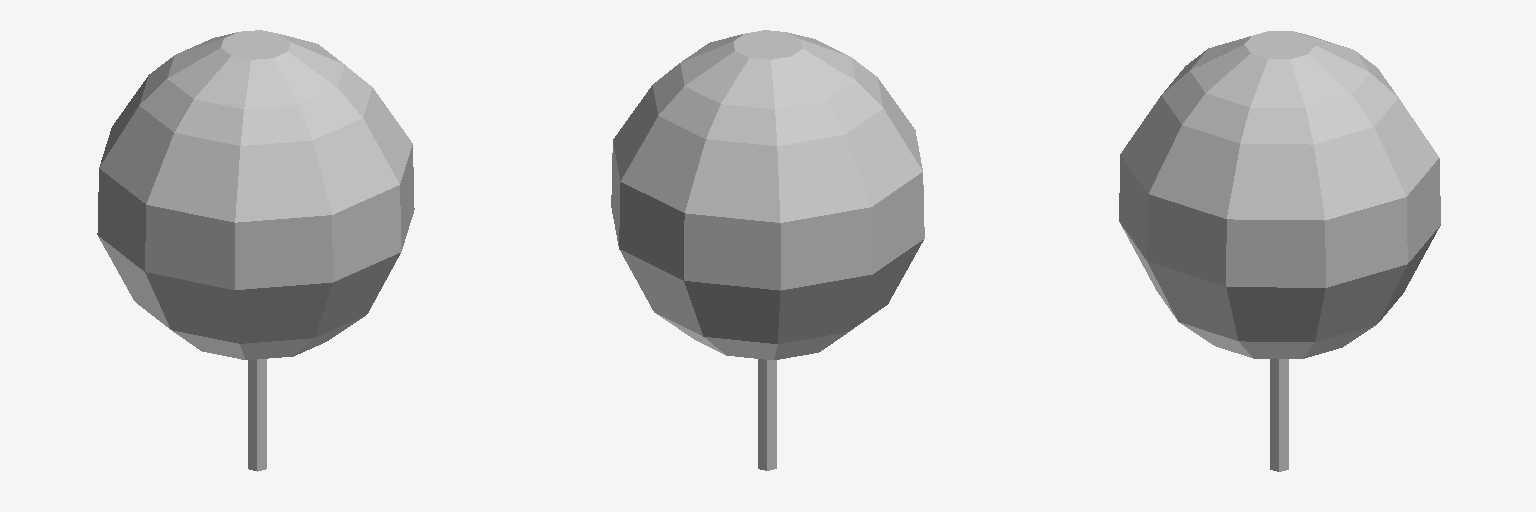
File: Tree_z_Icon_4.obj
3 views of the same model, side by side, from view 1: azimuth 30°, elevation 25°; view 2: azimuth 150°, elevation 25°; view 3: azimuth 270°, elevation 25° (orthographic).
Parts seen in each view (by area): view 1: Mesh3 Model, Mesh2 Group1 Model; view 2: Mesh3 Model, Mesh2 Group1 Model; view 3: Mesh3 Model, Mesh2 Group1 Model.
Boxes of the visible parts, x1,y1,x2,y2 form: Mesh3 Model: [97, 30, 414, 359]; Mesh2 Group1 Model: [248, 359, 266, 471]; Mesh3 Model: [611, 30, 924, 359]; Mesh2 Group1 Model: [758, 359, 776, 470]; Mesh3 Model: [1119, 31, 1440, 358]; Mesh2 Group1 Model: [1270, 359, 1288, 471].
Bounding box in the file's own units: 140 × 210 × 146.